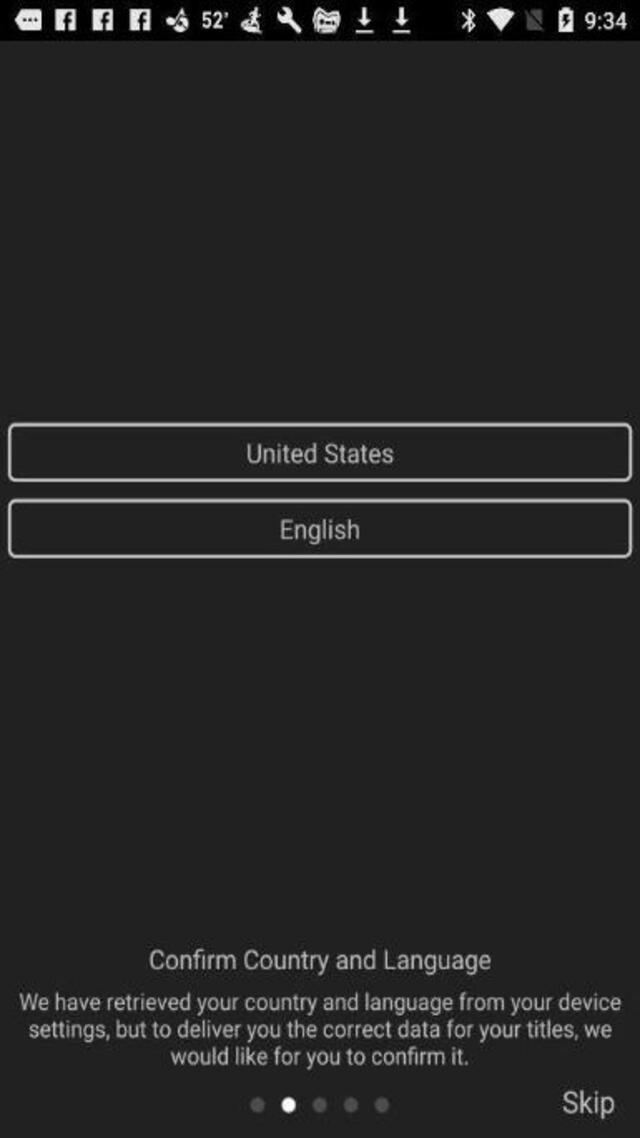Text: (24, 1018, 620, 1043), (17, 990, 626, 1014), (148, 947, 495, 977), (168, 1045, 472, 1070), (244, 441, 394, 468), (277, 518, 366, 546), (562, 1088, 615, 1118)
TextButton: (6, 498, 632, 558), (6, 422, 632, 481)
